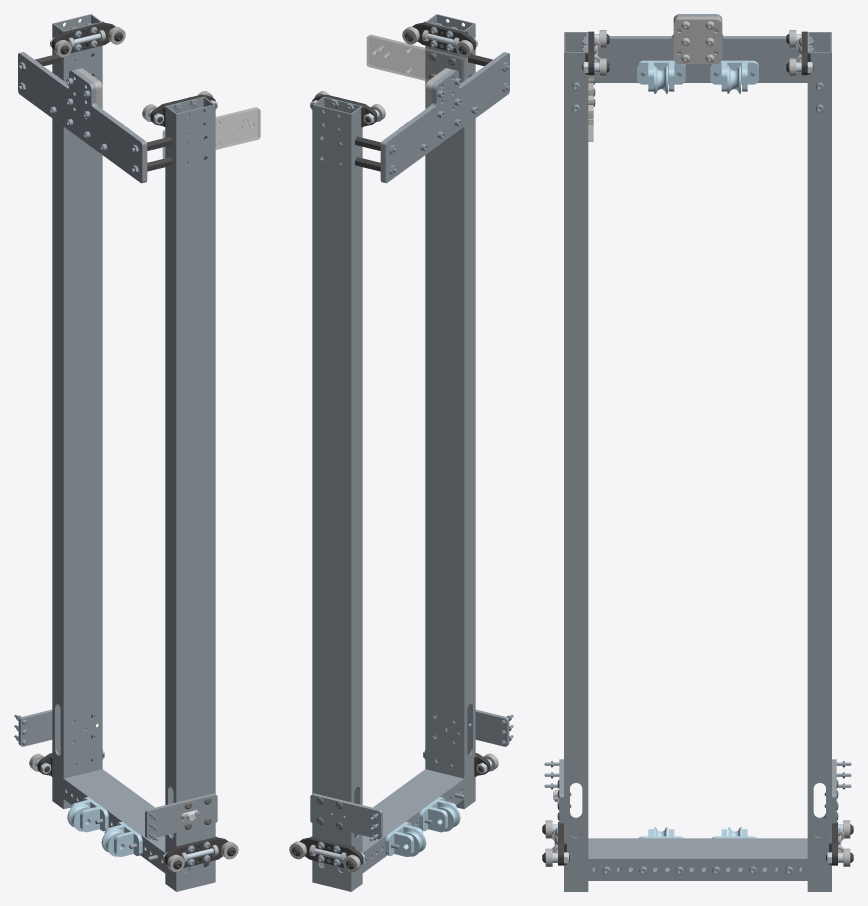
3 views of the same model, side by side, from view 1: azimuth 30°, elevation 25°; view 2: azimuth 150°, elevation 25°; view 3: azimuth 270°, elevation 25° (orthographic). The views are drawn at different scales.
Visible parts, largest first — view 1: Stage 1 Vertical (×2), Stage 1 Upper Crossbeam, Stage 1 Horizontal, Chain Attachment Plate (×2), Energy Chain Mount Plate, 4mm Dyneema Cable Pulley Bracket ELEV-PULLEY-001 (×2), Sliding Bearing Block Plate - SLIDE-001 (×2); view 2: Stage 1 Vertical (×2), Stage 1 Upper Crossbeam, Stage 1 Horizontal, Chain Attachment Plate (×2), Energy Chain Mount Plate, 4mm Dyneema Cable Pulley Bracket ELEV-PULLEY-001 (×2), Sliding Bearing Block Plate - SLIDE-001 (×2); view 3: Stage 1 Vertical (×2), Stage 1 Horizontal, Stage 1 Upper Crossbeam, 4mm Dyneema Cable Pulley Bracket ELEV-PULLEY-001 (×2), Cable Clamp Top Plate ELEV-PULLEY-005.
Boxes of the visible parts, left/top/right/bottom form: Stage 1 Vertical (×2): left=52, top=14, right=215, bottom=891; Stage 1 Upper Crossbeam: left=18, top=52, right=147, bottom=183; Stage 1 Horizontal: left=63, top=769, right=165, bottom=872; Chain Attachment Plate (×2): left=18, top=709, right=217, bottom=839; Energy Chain Mount Plate: left=162, top=107, right=260, bottom=158; 4mm Dyneema Cable Pulley Bracket ELEV-PULLEY-001 (×2): left=70, top=797, right=142, bottom=856; Sliding Bearing Block Plate - SLIDE-001 (×2): left=52, top=21, right=228, bottom=867; Stage 1 Vertical (×2): left=312, top=14, right=475, bottom=891; Stage 1 Upper Crossbeam: left=380, top=52, right=509, bottom=183; Stage 1 Horizontal: left=362, top=769, right=464, bottom=872; Chain Attachment Plate (×2): left=310, top=709, right=509, bottom=839; Energy Chain Mount Plate: left=366, top=34, right=464, bottom=82; 4mm Dyneema Cable Pulley Bracket ELEV-PULLEY-001 (×2): left=385, top=797, right=457, bottom=856; Sliding Bearing Block Plate - SLIDE-001 (×2): left=299, top=21, right=475, bottom=867; Stage 1 Vertical (×2): left=564, top=32, right=831, bottom=891; Stage 1 Horizontal: left=588, top=838, right=807, bottom=880; Stage 1 Upper Crossbeam: left=588, top=14, right=807, bottom=82; 4mm Dyneema Cable Pulley Bracket ELEV-PULLEY-001 (×2): left=637, top=60, right=758, bottom=91; Cable Clamp Top Plate ELEV-PULLEY-005: left=673, top=18, right=722, bottom=63.
Size of the model in its own units: 0.1747 by 0.9655 by 0.3242.
